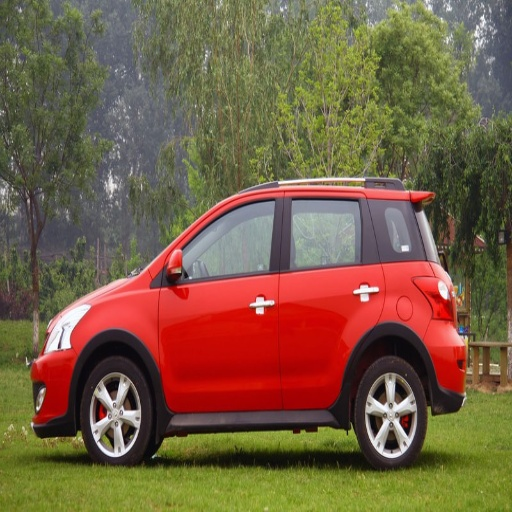back_left_door: (278, 190, 379, 406)
front_left_door: (160, 190, 283, 408)
